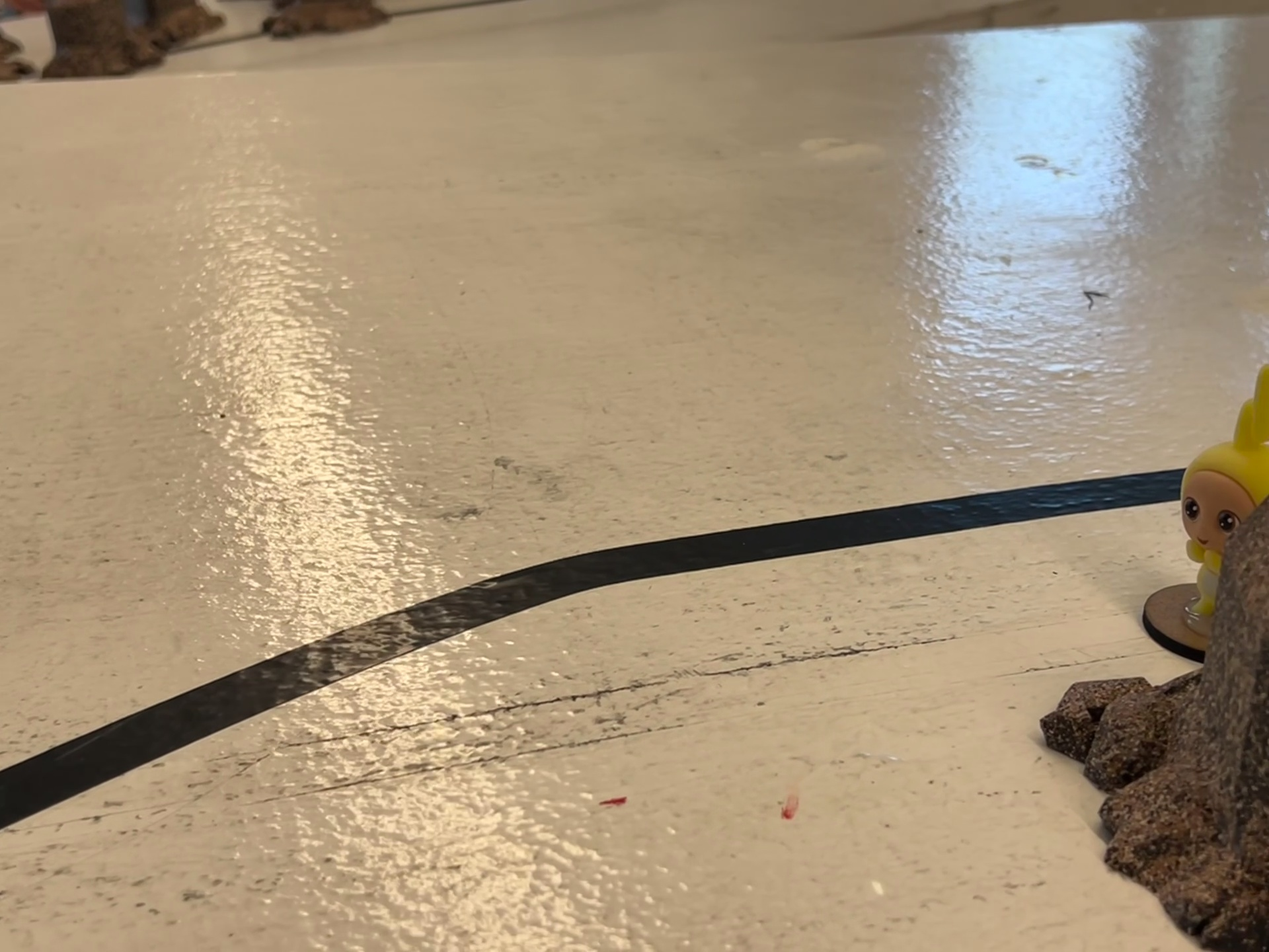teletubby: (1181, 364, 1268, 619)
